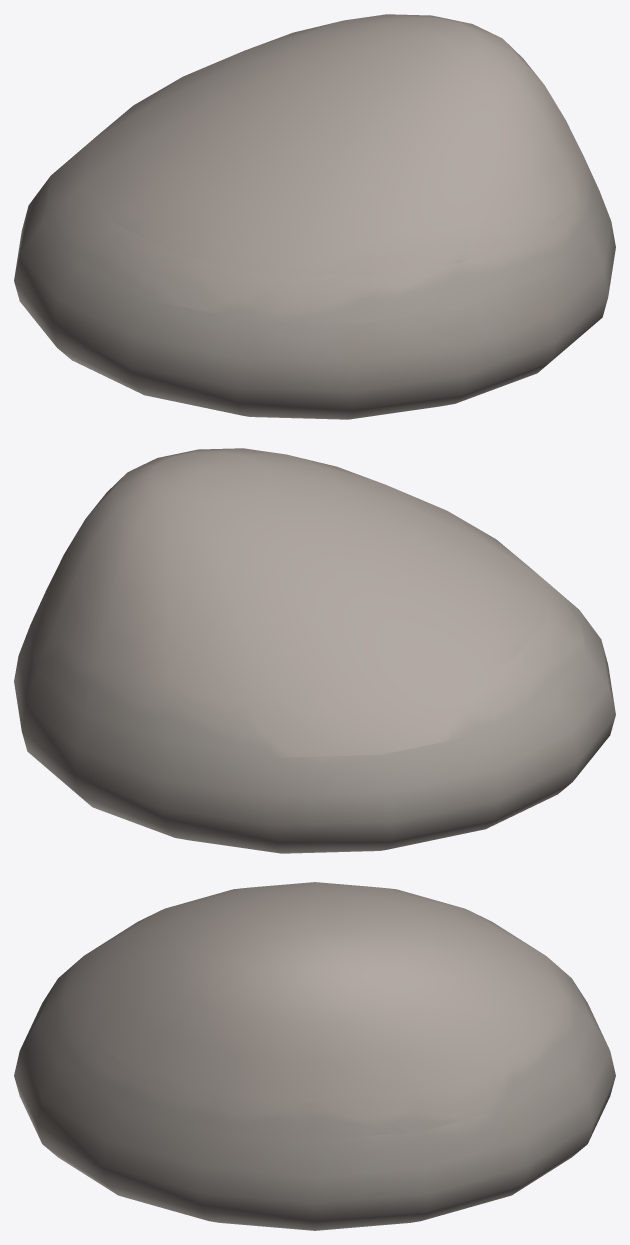
File: batu_3.fbx
The picture shows the model from 3 angles, top to bottom: view 1: azimuth 30°, elevation 25°; view 2: azimuth 150°, elevation 25°; view 3: azimuth 270°, elevation 25°; orthographic projection.
Visible parts, largest first — view 1: batu_3; view 2: batu_3; view 3: batu_3.
Part boxes in pixels (x1,y1,x2,y2): batu_3: (14,14,615,419); batu_3: (14,448,615,853); batu_3: (14,882,615,1230).
Bounding box in the file's own units: 1.77 × 0.8347 × 1.77.
Materials: 1 (1 with a texture image).
